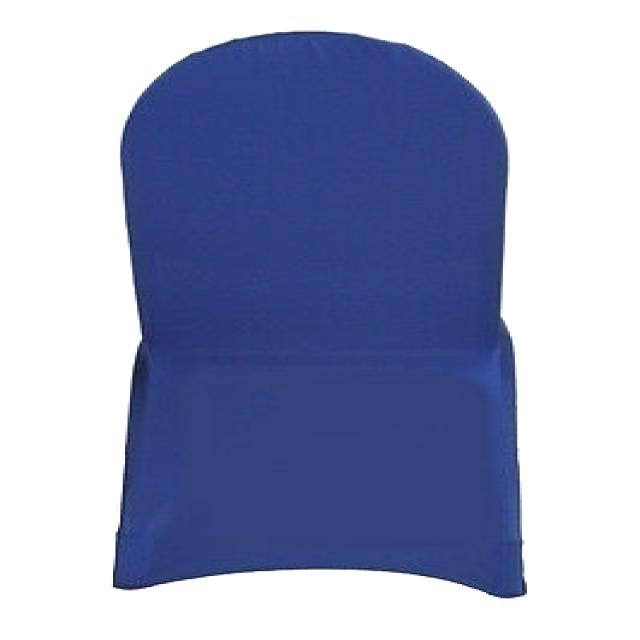Chair: (114, 28, 530, 603)
